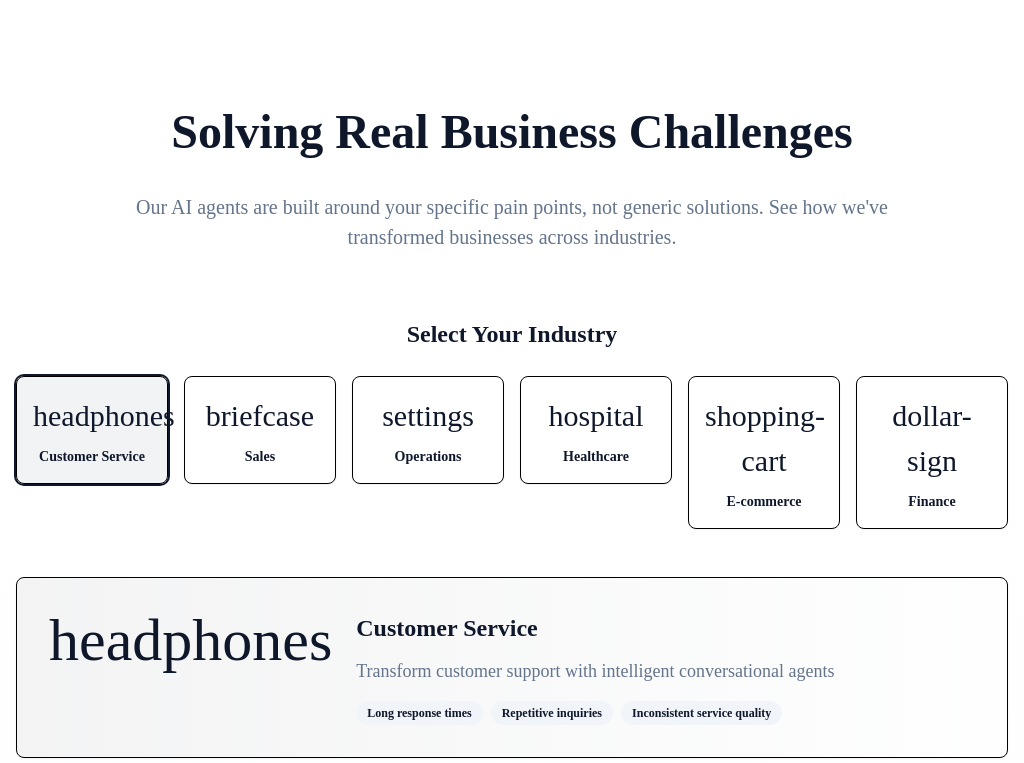
it: PainPointSolver › handles industry switching correctly
Note: Switch to Operations
Click the heading "Operations".
click(428, 456)  # box left=394, top=449, right=461, bottom=464
(page scrolled)
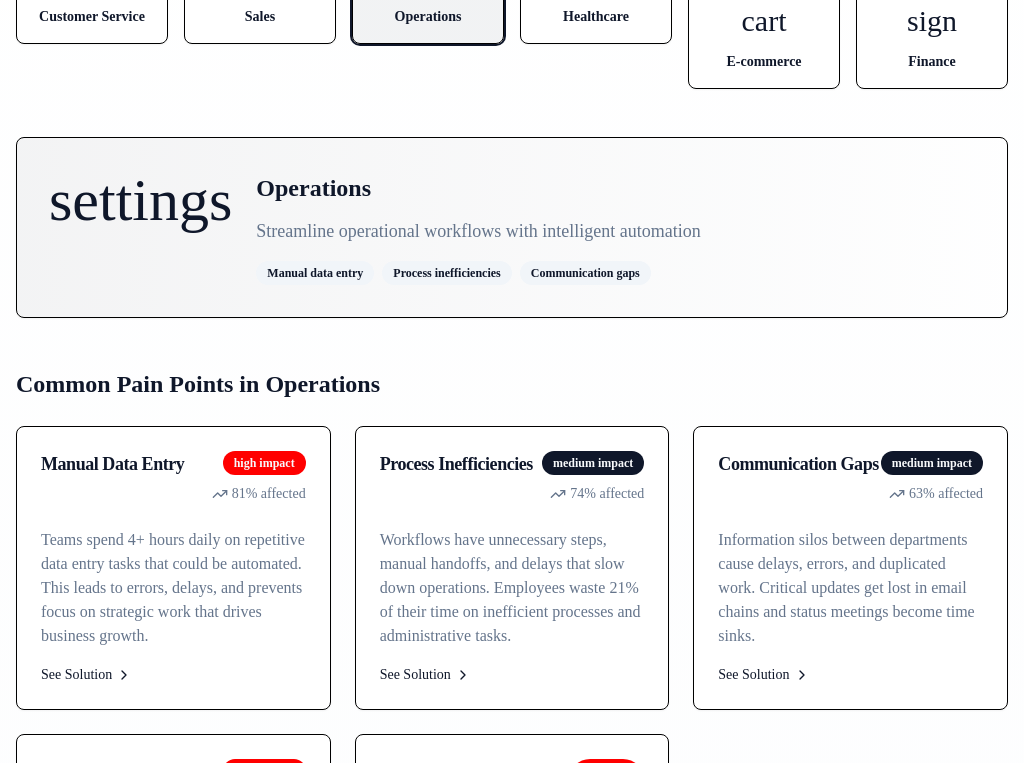
expect the heading "Common Pain Points in Operations" is shown: met, box left=16, top=371, right=380, bottom=397
